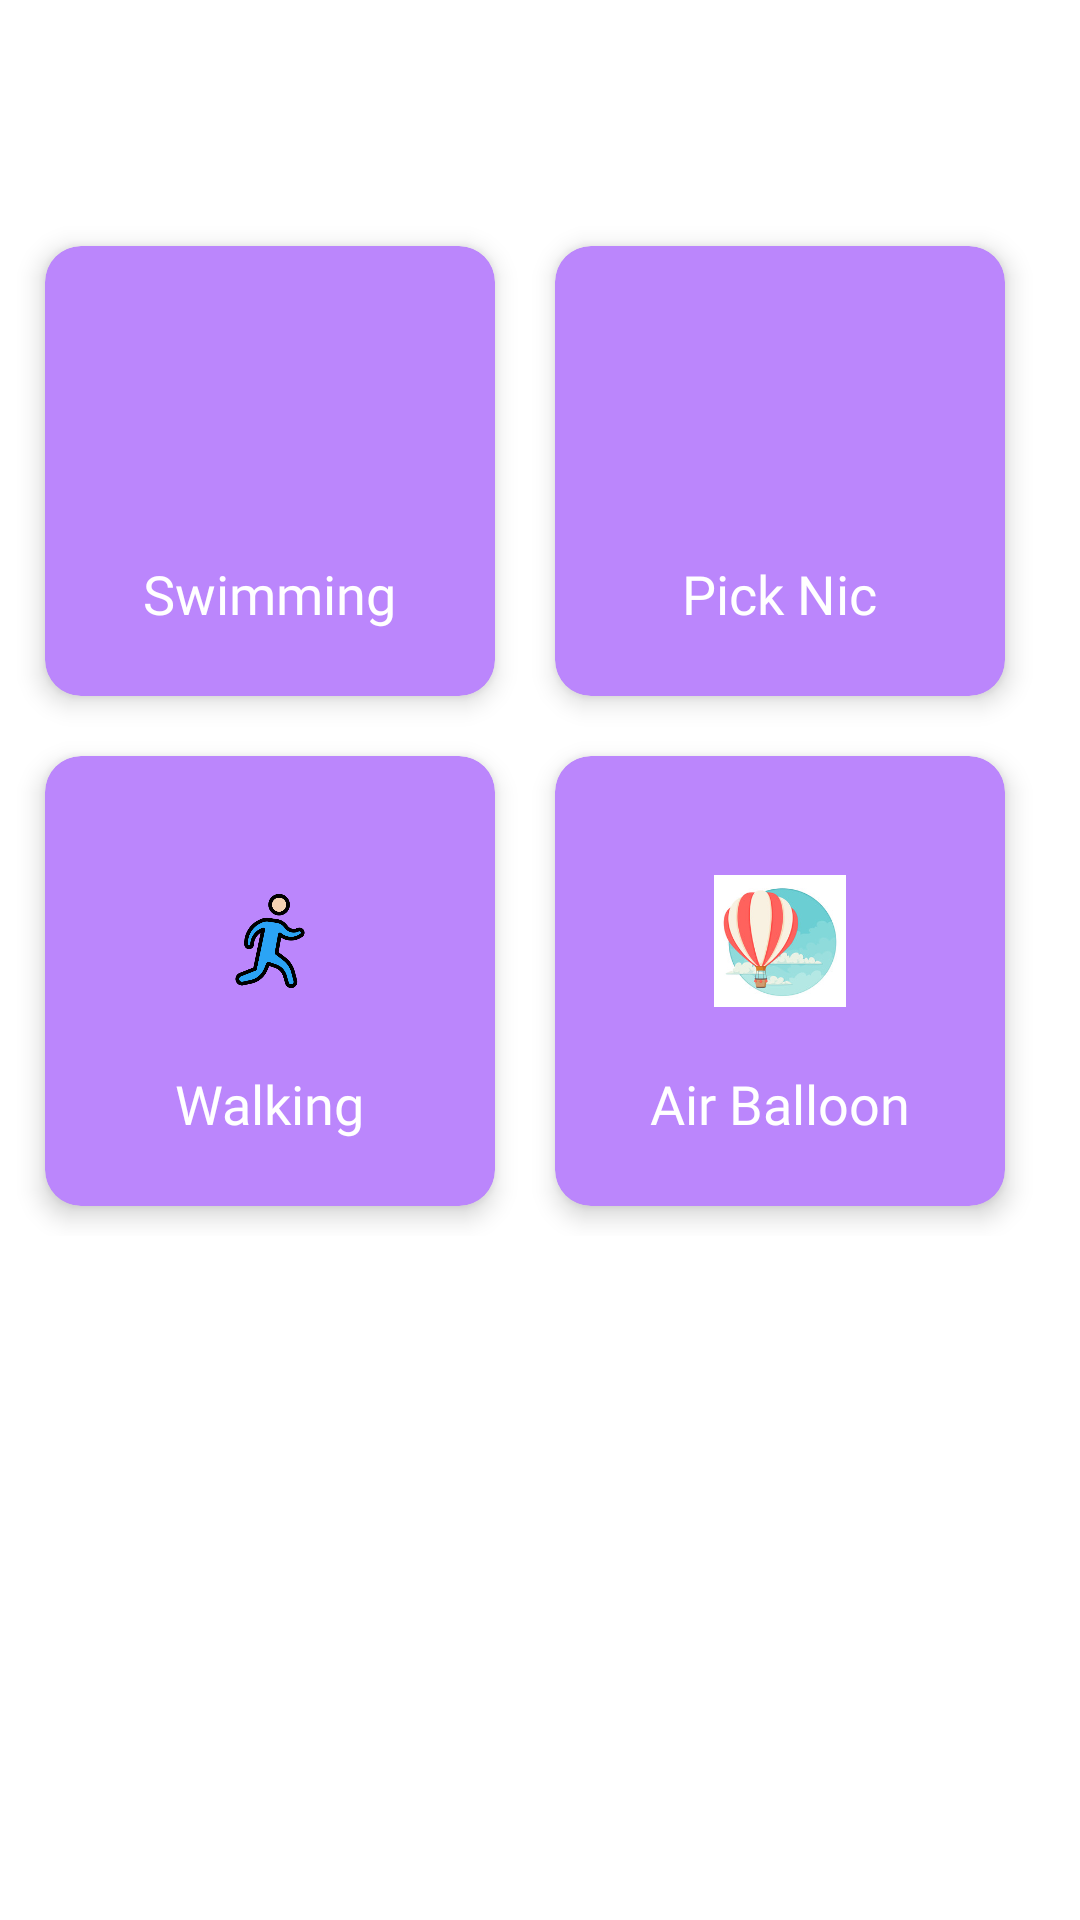

Named icons in this screenshot (1080 x 1920) and their centers, point (x, y):
ballon: point (780, 941)
